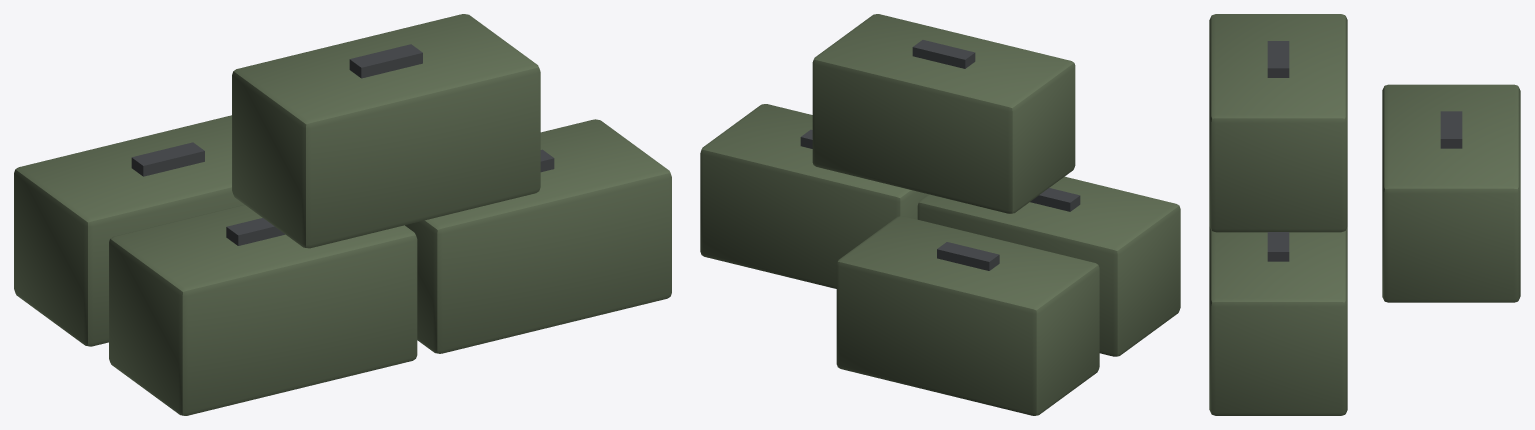
The model's file is ZR_AmmoBoxes.fbx.
3 views of the same model, side by side, from view 1: azimuth 30°, elevation 25°; view 2: azimuth 150°, elevation 25°; view 3: azimuth 270°, elevation 25° (orthographic). The views are drawn at different scales.
Parts seen in each view (by area): view 1: ZR_AmmoBoxes; view 2: ZR_AmmoBoxes; view 3: ZR_AmmoBoxes.
Boxes of the visible parts, x1,y1,x2,y2 form: ZR_AmmoBoxes: (14,14,671,415); ZR_AmmoBoxes: (700,14,1180,415); ZR_AmmoBoxes: (1209,14,1520,415).
Bounding box in the file's own units: 1.2 × 0.645 × 0.72.
